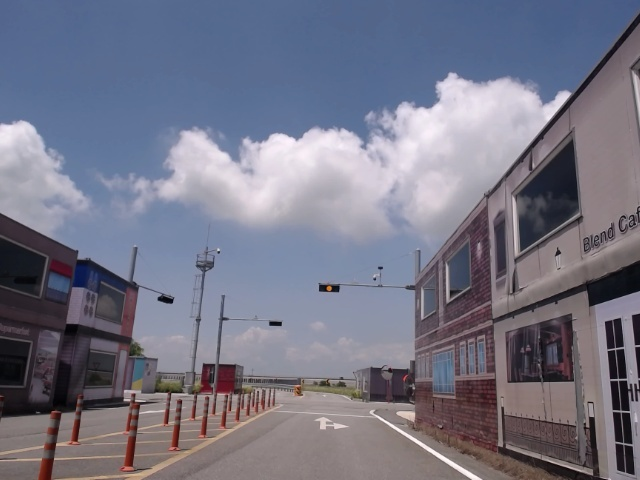orange_3: (319, 283, 340, 292)
